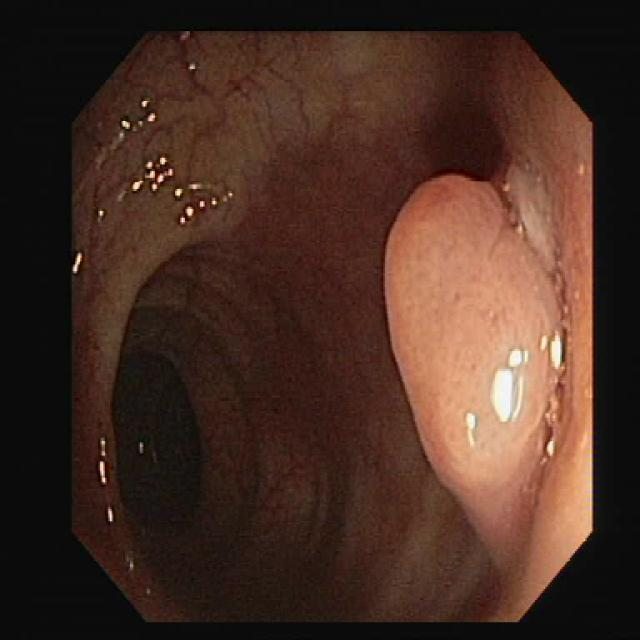tumor: (385, 176, 558, 553)
